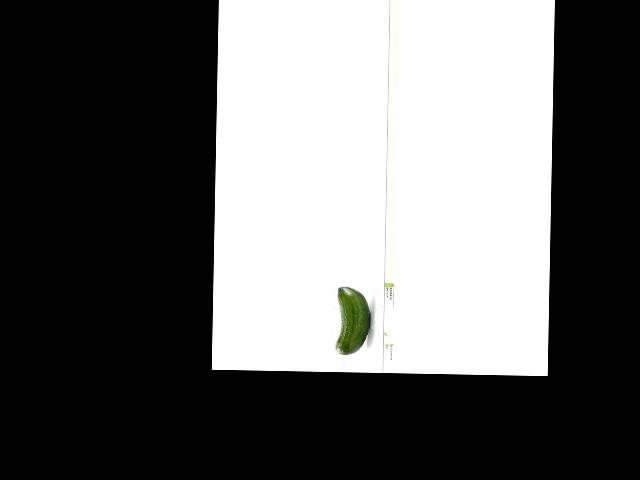cucumber: (336, 287, 371, 355)
